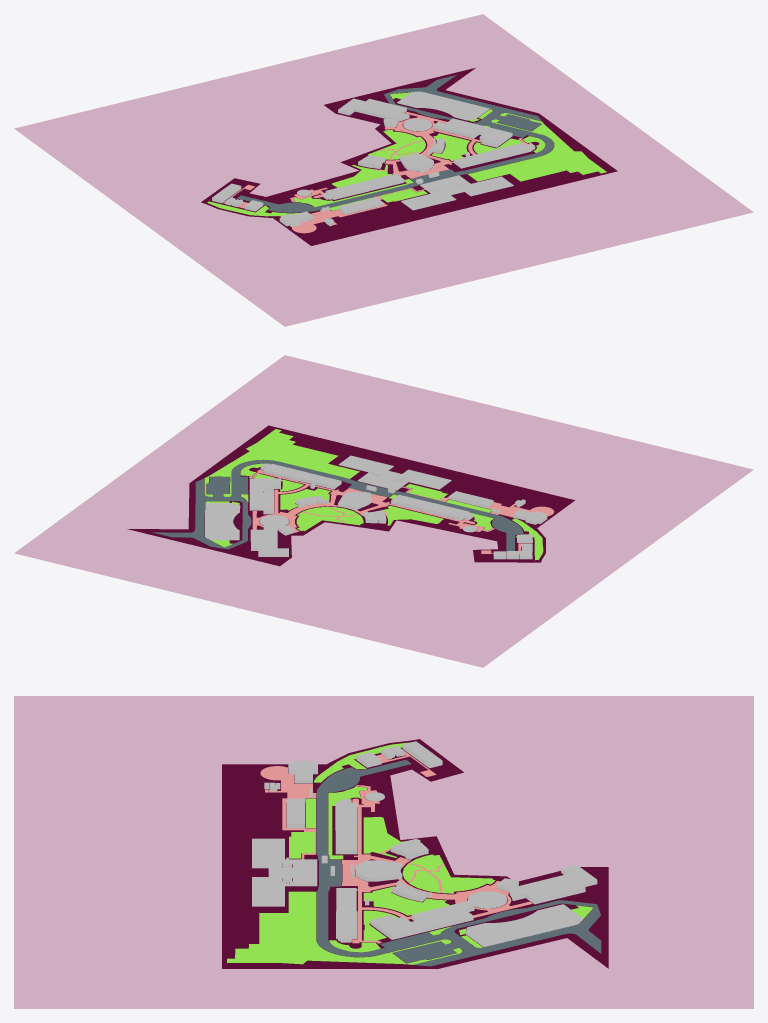
File: njc-l1-v3-5-pathfinding.glb
3 renders of one model, top to bottom at view 1: azimuth 30°, elevation 25°; view 2: azimuth 150°, elevation 25°; view 3: azimuth 270°, elevation 25°, orthographic. The views are drawn at different scales.
Visible parts, largest first — view 1: Grey, Base, Grass, None, Drive, Foot, Canteen; view 2: Grey, Base, Grass, None, Drive, Foot, Canteen; view 3: Grey, Base, Grass, None, Drive, Foot, Canteen, Atrium, DS3.
Part boxes in pixels (x1=…): Grey: x1=14, y1=14, x2=753, y2=326; Base: x1=201, y1=68, x2=617, y2=245; Grass: x1=207, y1=92, x2=606, y2=216; None: x1=212, y1=91, x2=531, y2=214; Drive: x1=237, y1=75, x2=554, y2=212; Foot: x1=223, y1=112, x2=528, y2=233; Canteen: x1=401, y1=175, x2=513, y2=210; Grey: x1=14, y1=355, x2=753, y2=667; Base: x1=127, y1=425, x2=574, y2=566; Grass: x1=204, y1=429, x2=543, y2=560; None: x1=205, y1=464, x2=532, y2=559; Drive: x1=152, y1=460, x2=523, y2=550; Foot: x1=249, y1=469, x2=554, y2=553; Canteen: x1=338, y1=455, x2=451, y2=490; Grey: x1=14, y1=696, x2=753, y2=1008; Base: x1=222, y1=739, x2=608, y2=968; Grass: x1=227, y1=742, x2=592, y2=964; None: x1=286, y1=741, x2=597, y2=946; Drive: x1=316, y1=759, x2=601, y2=966; Foot: x1=260, y1=751, x2=532, y2=943; Canteen: x1=252, y1=838, x2=317, y2=906; Atrium: x1=467, y1=891, x2=507, y2=908; DS3: x1=288, y1=761, x2=317, y2=783.
Bounding box in the file's own units: 30 × 0.203 × 30.
